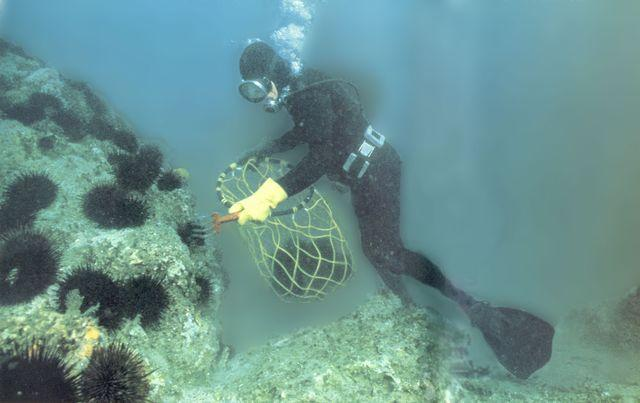urchin: (47, 258, 128, 337), (0, 223, 70, 313), (79, 335, 172, 402), (0, 330, 85, 403), (108, 265, 178, 336), (1, 162, 62, 213), (72, 177, 129, 228), (0, 194, 43, 230), (51, 106, 90, 143), (171, 215, 209, 251), (4, 99, 48, 129), (190, 271, 221, 311), (86, 112, 119, 147), (122, 156, 153, 191), (124, 192, 152, 229), (83, 92, 115, 123), (23, 89, 68, 111), (101, 145, 132, 176), (115, 121, 142, 156), (60, 73, 96, 98), (152, 167, 186, 191), (137, 141, 165, 167), (32, 132, 65, 152), (7, 45, 31, 59), (0, 93, 15, 111)
